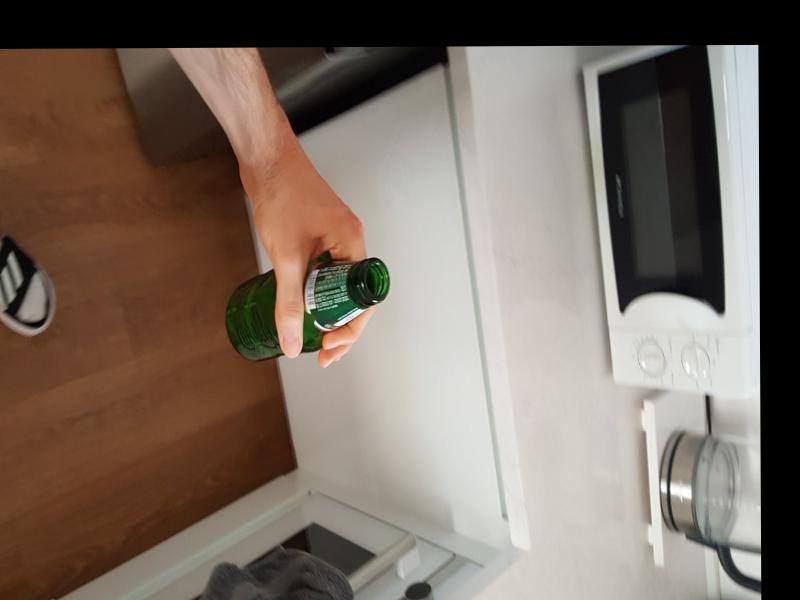Beer: (224, 257, 387, 361)
